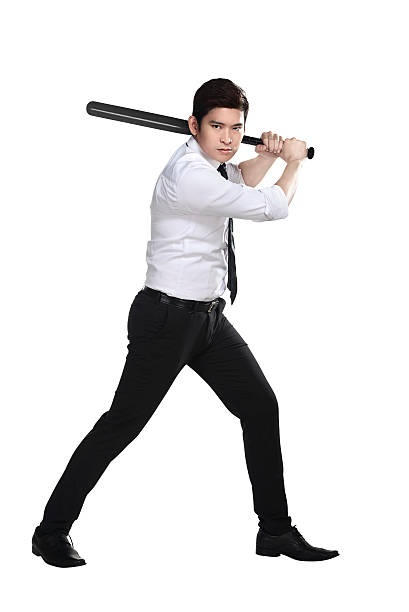bita: (89, 99, 317, 159)
